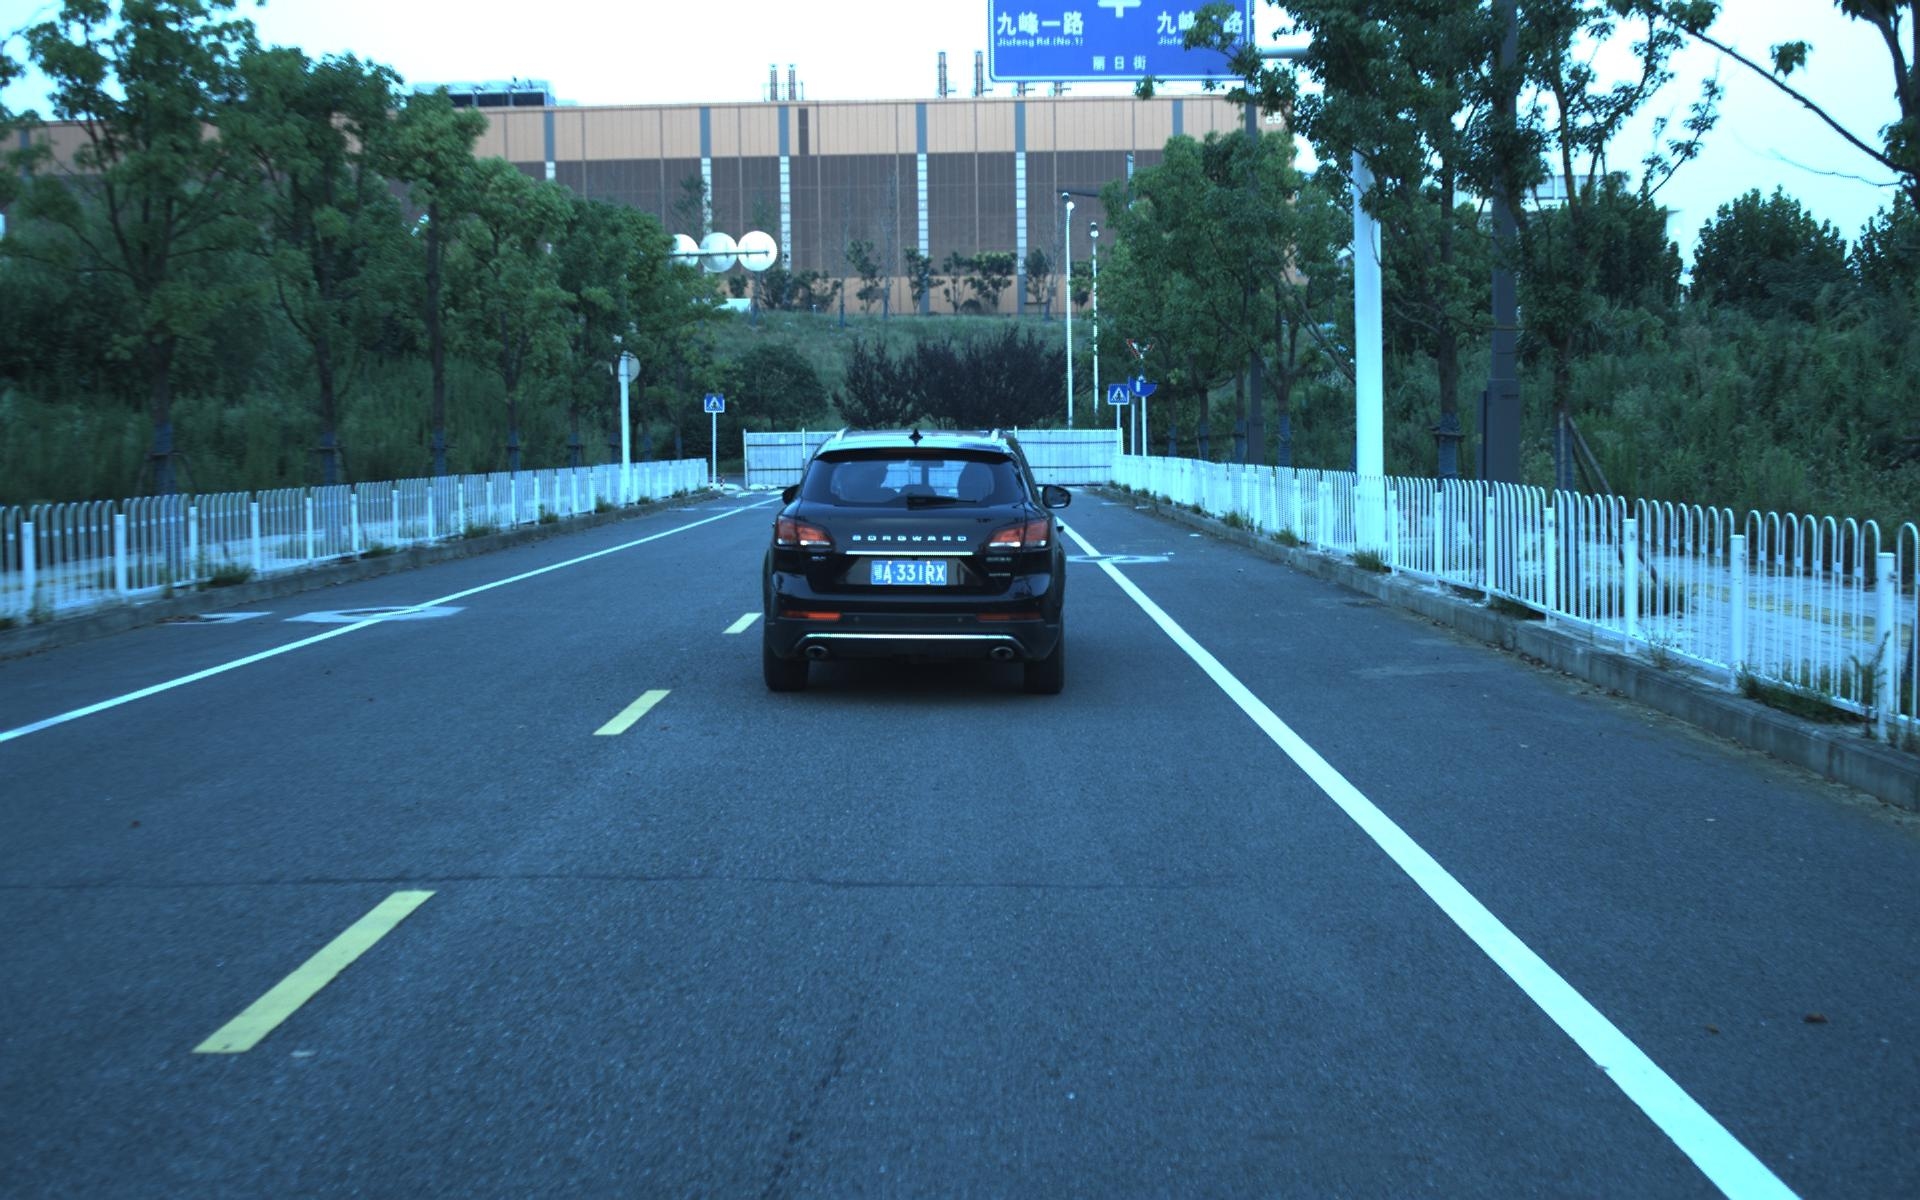Car: (757, 422, 1069, 698)
